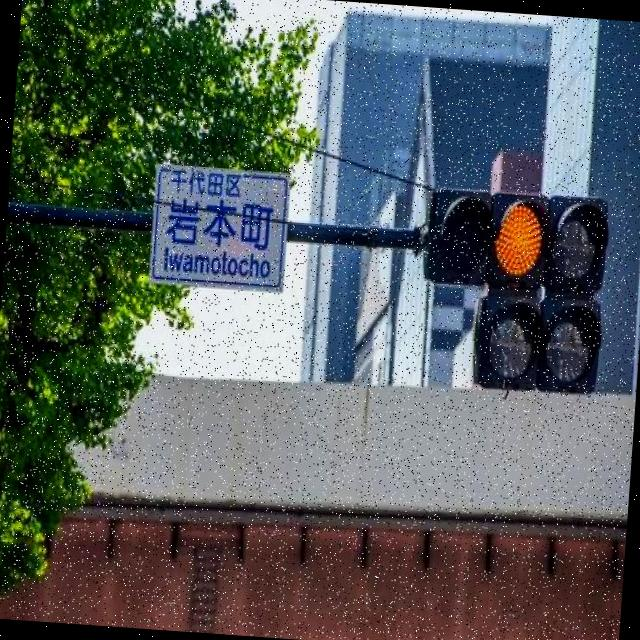yellow_light: (473, 167, 551, 279)
